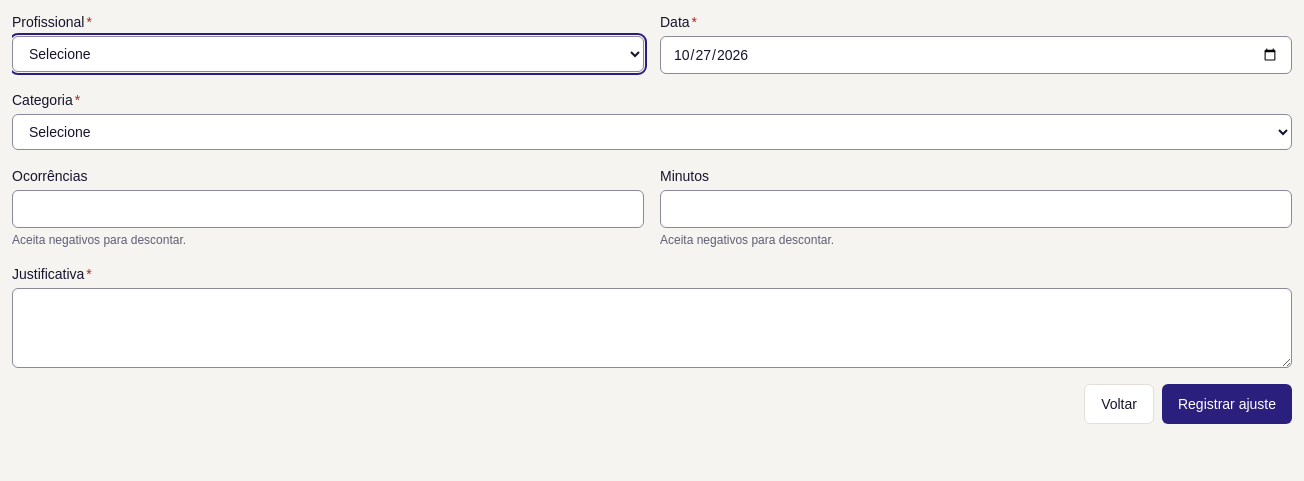
Test case: AjusteForm › Ajuste_exige_valor_e_justificativa
Select "Ana Souza" in the dropdown labelled "Profissional*": (328, 54) left=12, top=36, right=644, bottom=72
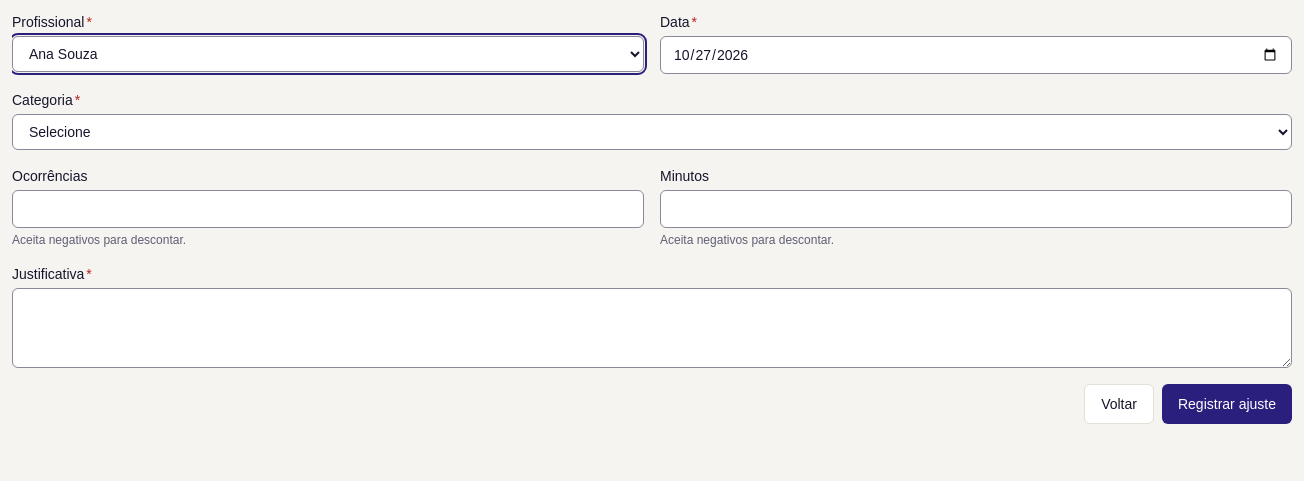
Select "Reuniões de equipe" in the dropdown labelled "Categoria*": (652, 132) left=12, top=114, right=1292, bottom=150
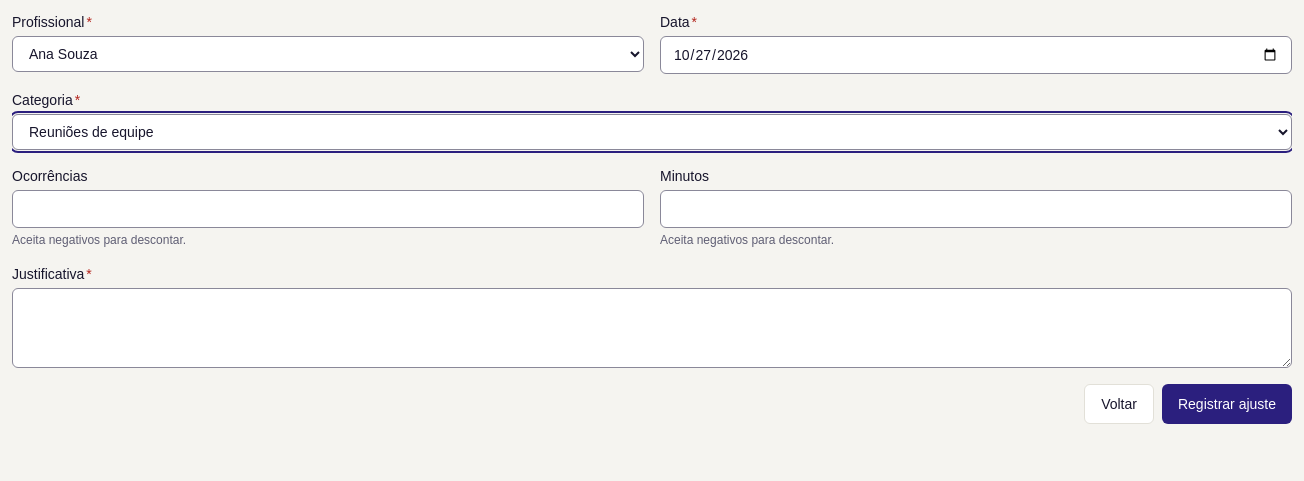
Click the button "Registrar ajuste": (1227, 404) left=1162, top=384, right=1292, bottom=424
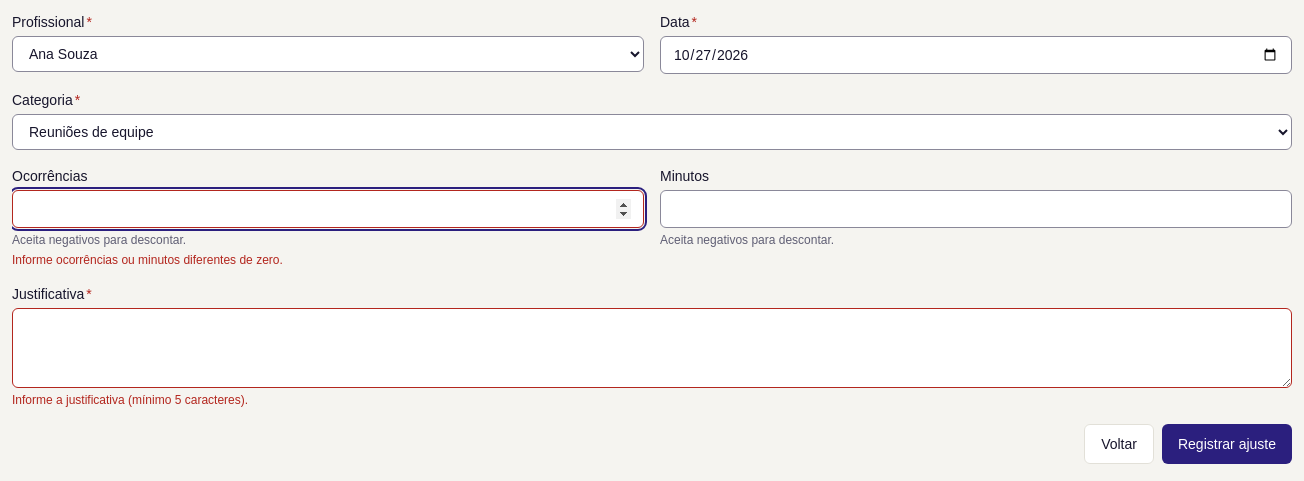
Result: the text "Informe ocorrências ou minutos diferentes de zero." is shown at left=12, top=253, right=283, bottom=267
Result: the text "Informe a justificativa (mínimo 5 caracteres)." is shown at left=12, top=393, right=248, bottom=407
